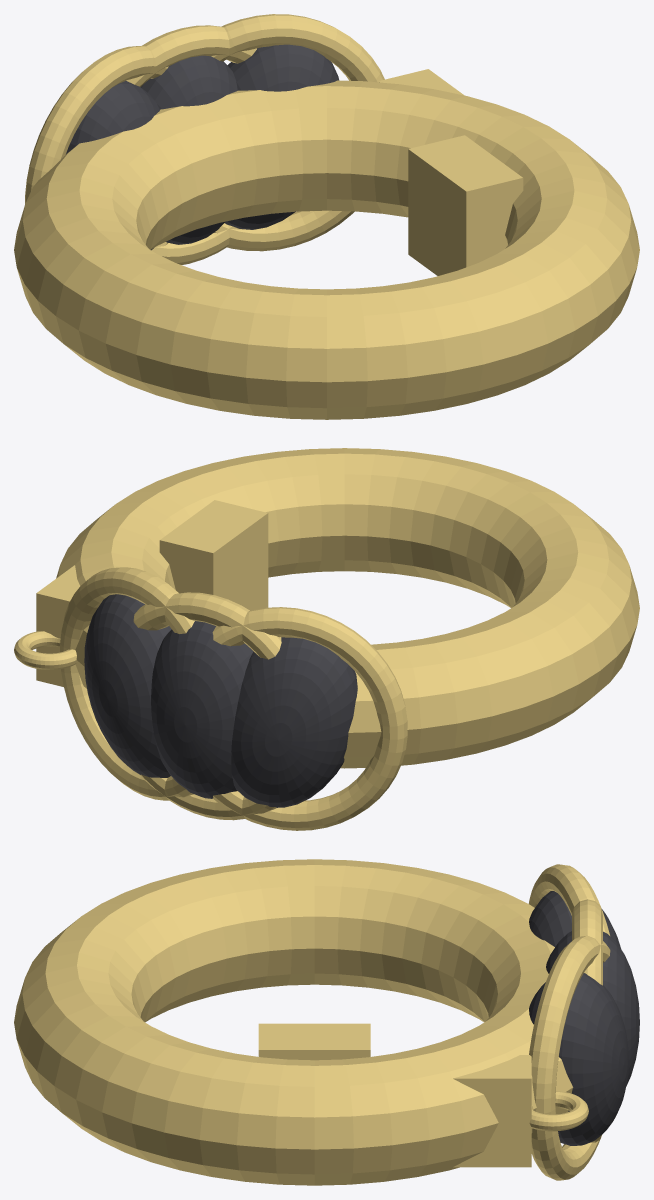
File: 07_gold_onyx_bangle.fbx
3 views of the same model, one above another, from view 1: azimuth 30°, elevation 25°; view 2: azimuth 150°, elevation 25°; view 3: azimuth 270°, elevation 25° (orthographic). The views are drawn at different scales.
Parts seen in each view (by area): view 1: Band, Hinge, Bezel_0, Bezel_2, Cabochon_0, Bezel_1, Cabochon_1, Cabochon_2, ChainPlate; view 2: Band, Cabochon_2, Cabochon_1, Bezel_2, Cabochon_0, Hinge, Bezel_0, Bezel_1, ChainPlate, ChainRing; view 3: Band, Cabochon_0, Bezel_0, ChainPlate, Hinge, Cabochon_1, Bezel_2, Cabochon_2, Bezel_1, ChainRing.
Part boxes in pixels (x1=…): Band: x1=14, y1=80, x2=639, y2=419; Hinge: x1=408, y1=135, x2=523, y2=275; Bezel_0: x1=211, y1=14, x2=384, y2=251; Bezel_2: x1=25, y1=46, x2=168, y2=253; Cabochon_0: x1=225, y1=44, x2=339, y2=229; Bezel_1: x1=126, y1=25, x2=256, y2=264; Cabochon_1: x1=141, y1=55, x2=237, y2=244; Cabochon_2: x1=66, y1=81, x2=159, y2=250; ChainPlate: x1=379, y1=69, x2=463, y2=95; Band: x1=56, y1=448, x2=639, y2=768; Cabochon_2: x1=231, y1=637, x2=357, y2=807; Cabochon_1: x1=151, y1=621, x2=253, y2=798; Bezel_2: x1=212, y1=607, x2=407, y2=830; Cabochon_0: x1=84, y1=594, x2=171, y2=777; Hinge: x1=159, y1=500, x2=268, y2=610; Bezel_0: x1=60, y1=567, x2=194, y2=800; Bezel_1: x1=133, y1=592, x2=281, y2=820; ChainPlate: x1=36, y1=565, x2=80, y2=686; ChainRing: x1=14, y1=631, x2=76, y2=669; Band: x1=14, y1=859, x2=573, y2=1185; Cabochon_0: x1=529, y1=973, x2=628, y2=1145; Bezel_0: x1=529, y1=935, x2=610, y2=1180; ChainPlate: x1=453, y1=1055, x2=531, y2=1167; Hinge: x1=258, y1=1023, x2=370, y2=1060; Cabochon_1: x1=546, y1=931, x2=639, y2=1086; Bezel_2: x1=528, y1=864, x2=609, y2=935; Cabochon_2: x1=529, y1=891, x2=620, y2=948; Bezel_1: x1=572, y1=899, x2=602, y2=1142; ChainRing: x1=529, y1=1091, x2=588, y2=1131.
Bounding box in the file's own units: 8.6 × 3.54 × 8.95.
